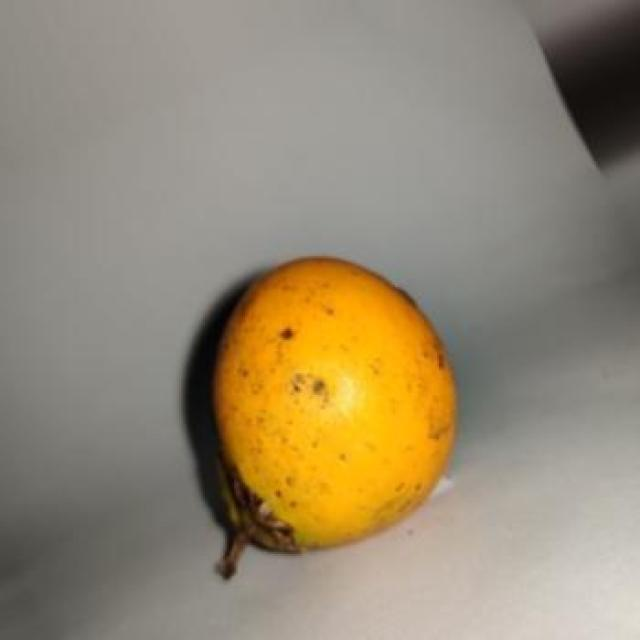good: (208, 258, 457, 576)
